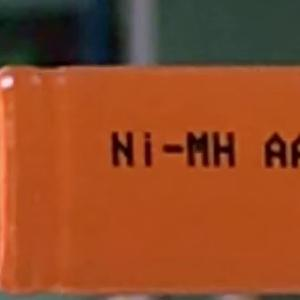NI-MH: (102, 122, 245, 176)
